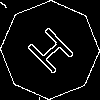H: (25, 25, 83, 83)
